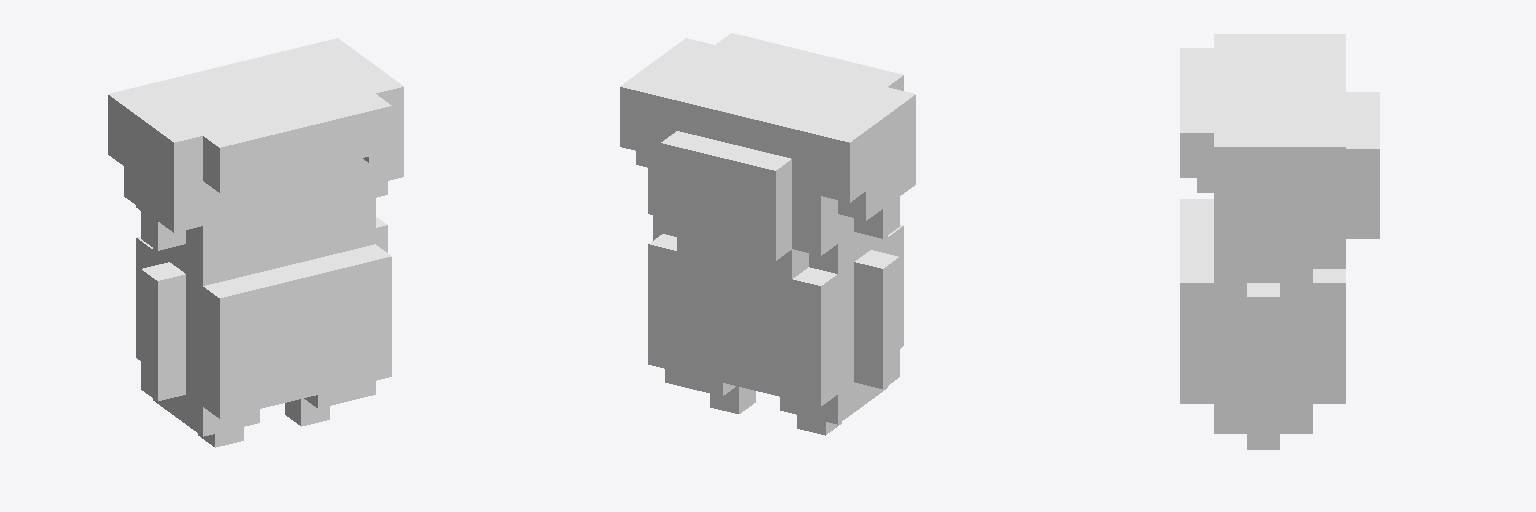
File: brother.obj
3 views of the same model, side by side, from view 1: azimuth 30°, elevation 25°; view 2: azimuth 150°, elevation 25°; view 3: azimuth 270°, elevation 25° (orthographic).
Visible parts, largest first — view 1: brother; view 2: brother; view 3: brother.
Part boxes in pixels (left/top/right/bottom): brother: left=108, top=38, right=403, bottom=447; brother: left=620, top=33, right=915, bottom=435; brother: left=1180, top=34, right=1379, bottom=449.
Bounding box in the file's own units: 1.6 × 2.2 × 1.2.